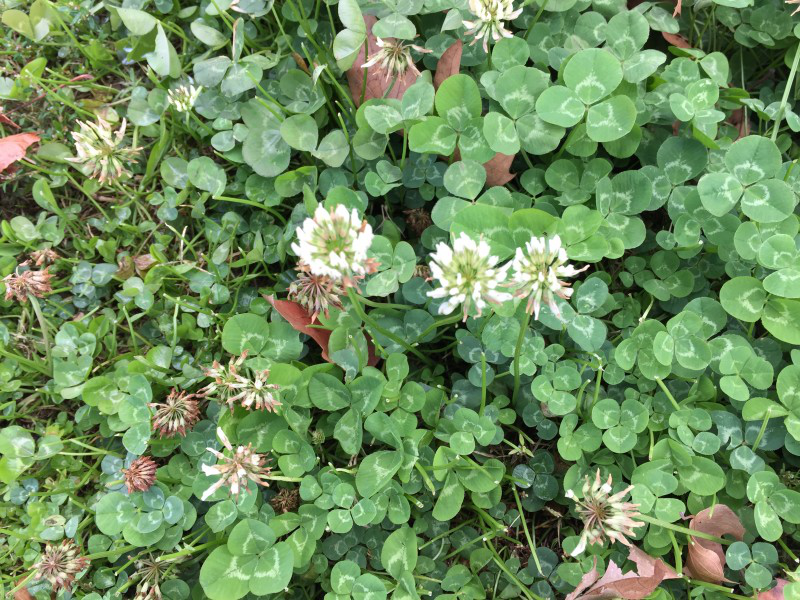clover: (2, 1, 799, 600)
